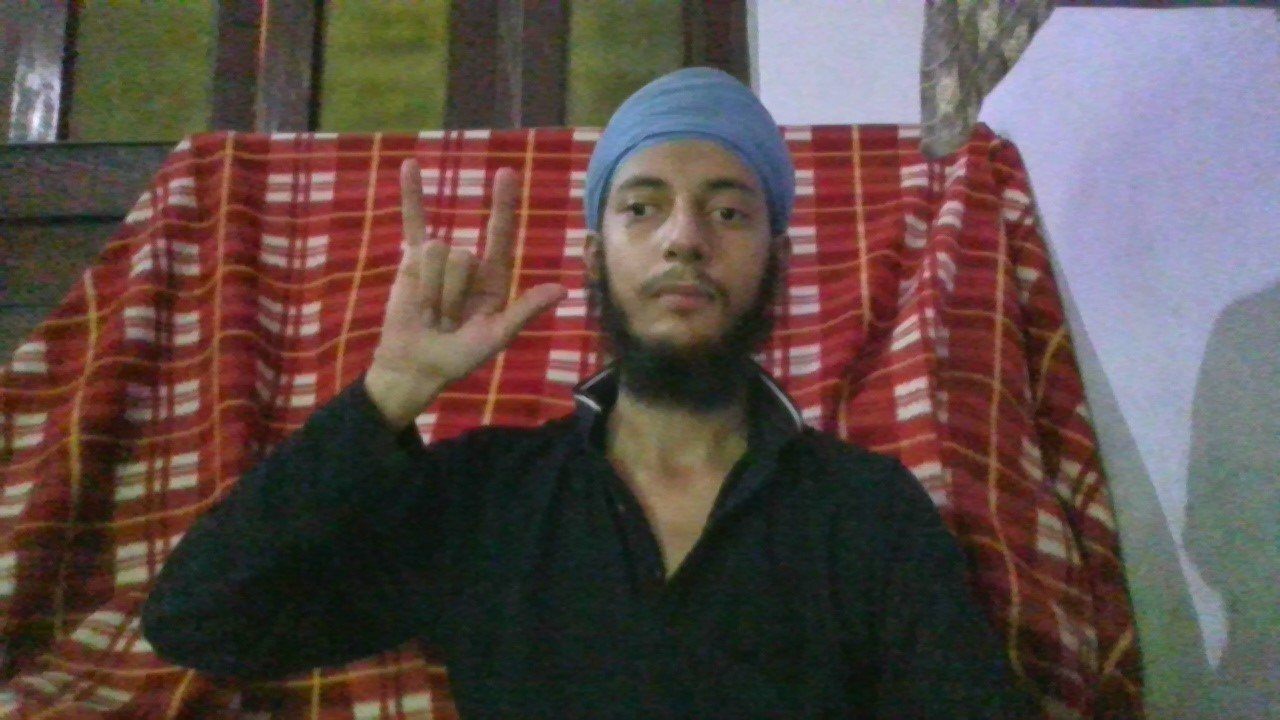I Love You: (366, 155, 567, 372)
